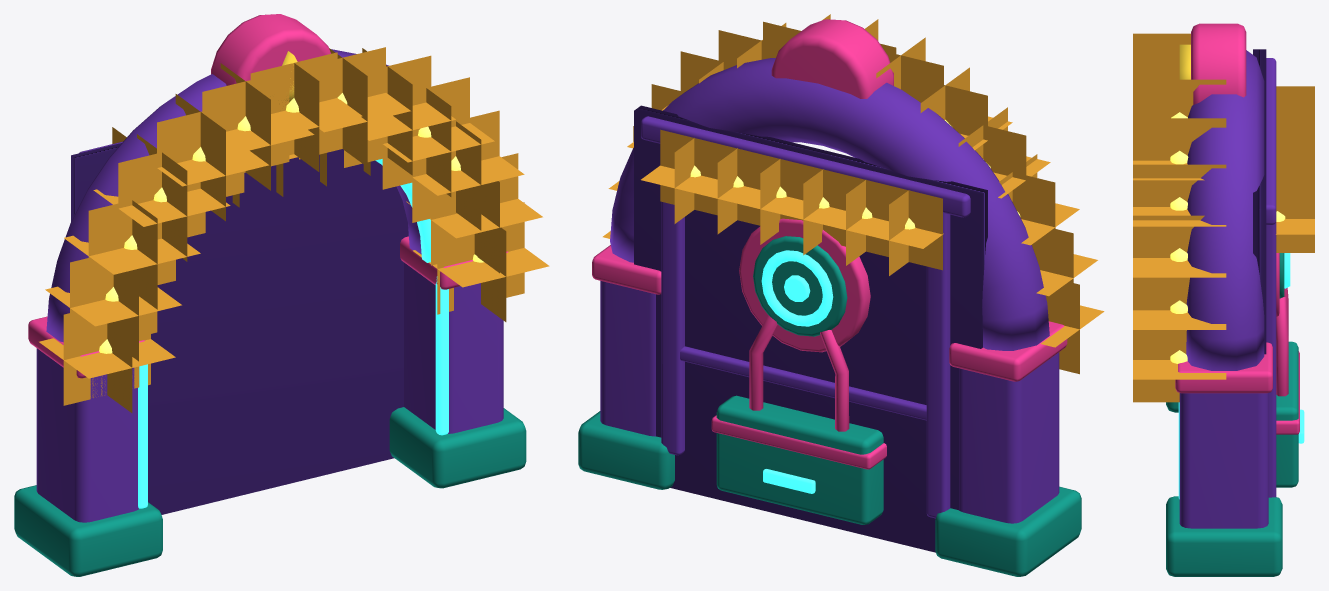
The model's file is portal_arch.glb.
The picture shows the model from 3 angles, left to right: view 1: azimuth 30°, elevation 25°; view 2: azimuth 150°, elevation 25°; view 3: azimuth 270°, elevation 25°; orthographic projection. The views are drawn at different scales.
Visible parts, largest first — view 1: PortalArch; view 2: PortalArch; view 3: PortalArch.
Part boxes in pixels (left/top/right/bottom): PortalArch: left=14, top=14, right=549, bottom=576; PortalArch: left=578, top=14, right=1104, bottom=576; PortalArch: left=1133, top=23, right=1314, bottom=576.
Bounding box in the file's own units: 4.44 × 4.45 × 1.64.
